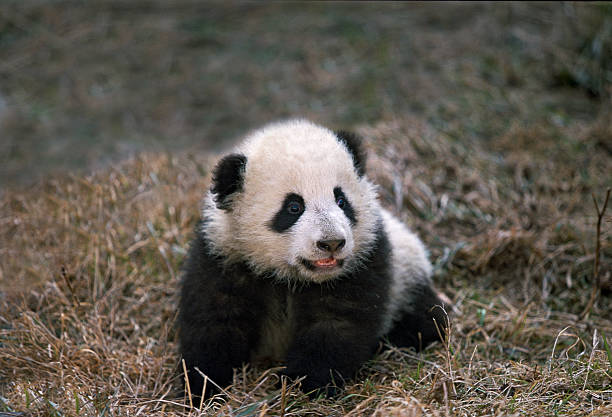panda: (177, 102, 410, 312)
